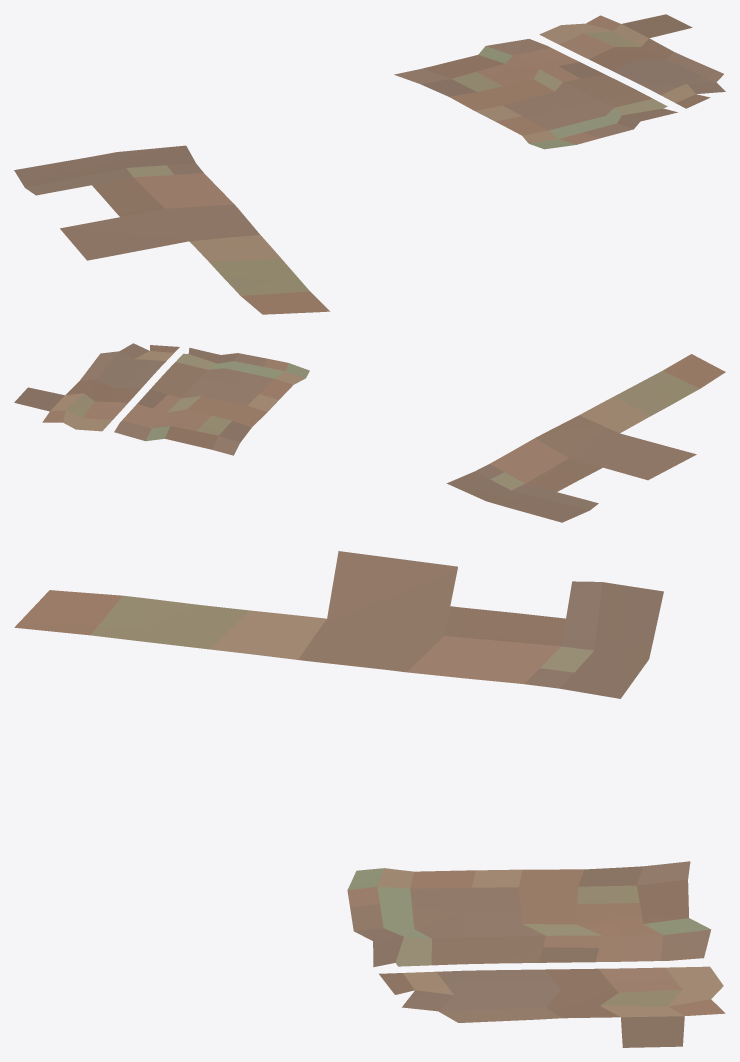
The model's file is farm_10_10_soil.glb.
3 views of the same model, one above another, from view 1: azimuth 30°, elevation 25°; view 2: azimuth 150°, elevation 25°; view 3: azimuth 270°, elevation 25° (orthographic). The views are drawn at different scales.
Visible parts, largest first — view 1: geometry_0; view 2: geometry_0; view 3: geometry_0.
Part boxes in pixels (x1,y1,x2,y2): geometry_0: (14,14,725,314); geometry_0: (14,343,725,522); geometry_0: (14,551,725,1047).
Bounding box in the file's own units: 566 × 17.96 × 359.
